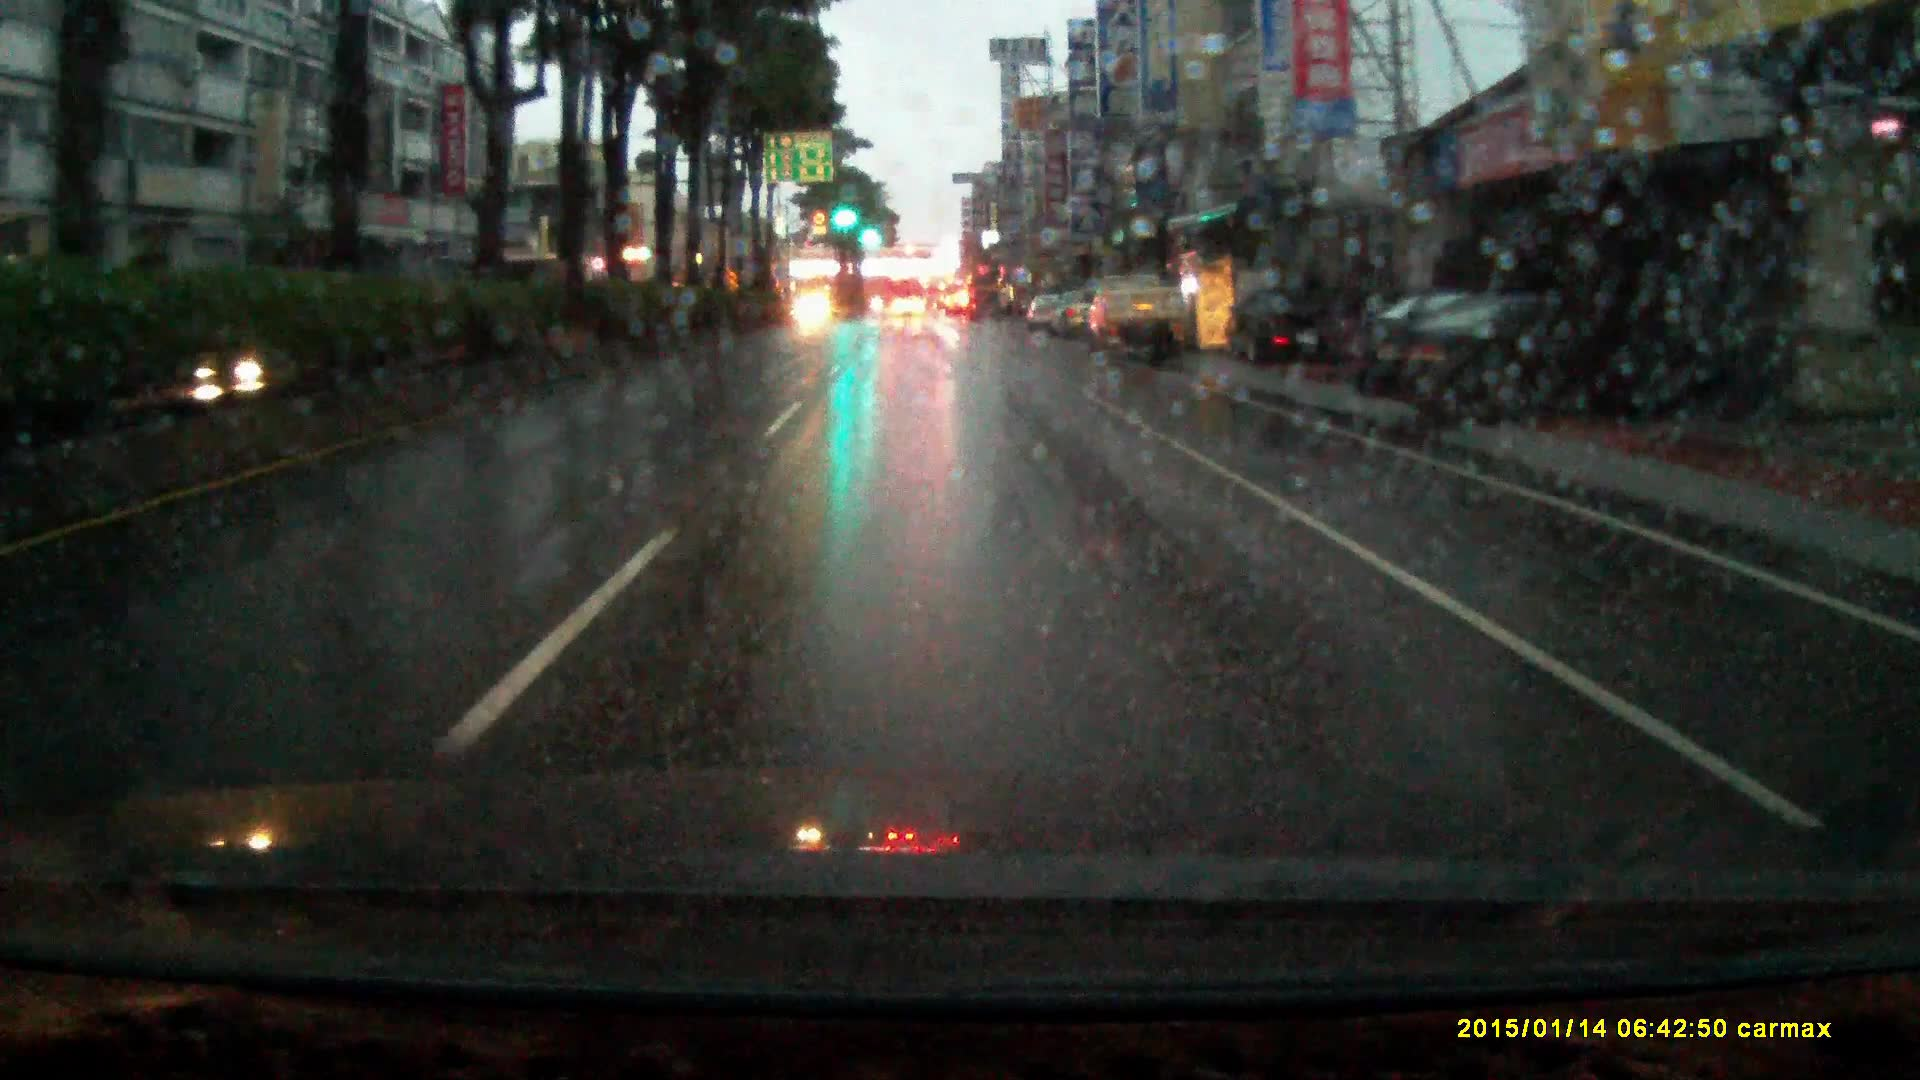vehicle: (1344, 298, 1756, 429), (1088, 272, 1188, 363), (1226, 291, 1338, 369), (1051, 289, 1098, 338), (793, 291, 836, 334), (1026, 294, 1064, 334), (891, 295, 927, 320), (926, 278, 947, 313)
